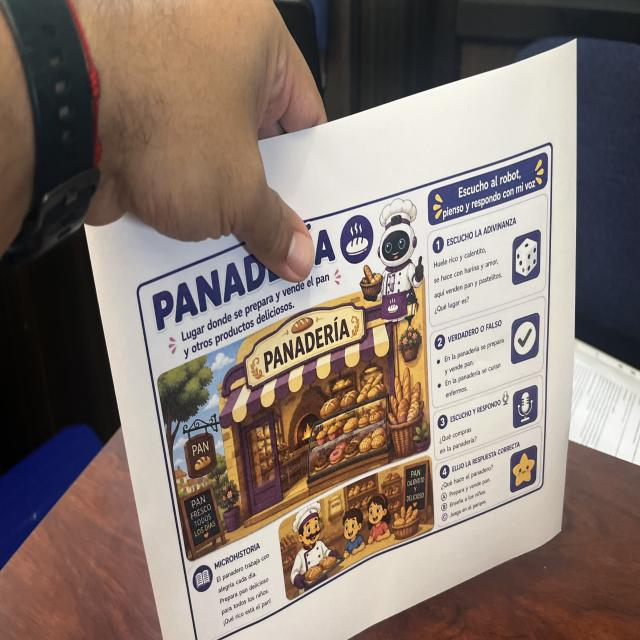panaderia: (133, 137, 556, 640)
